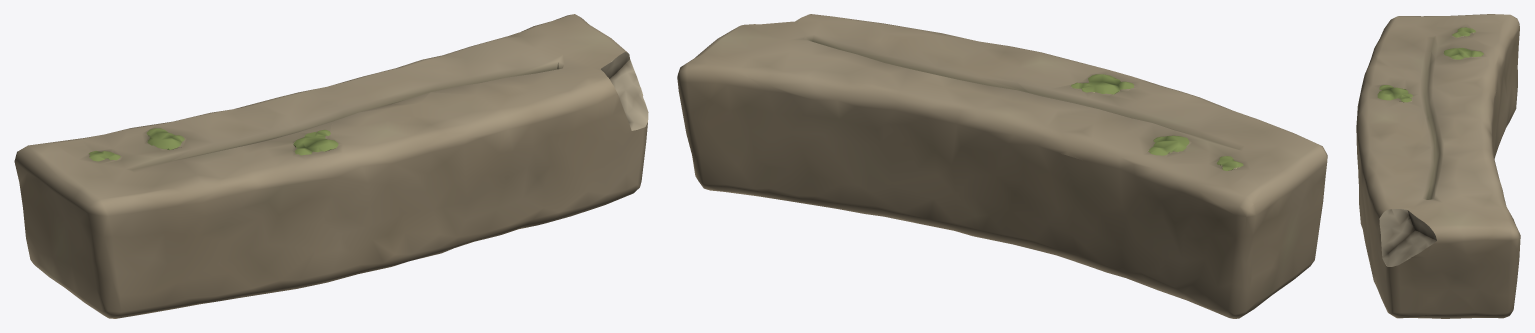
File: lm_lintel.glb
3 renders of one model, left to right at view 1: azimuth 30°, elevation 25°; view 2: azimuth 150°, elevation 25°; view 3: azimuth 270°, elevation 25°, orthographic. The views are drawn at different scales.
Parts seen in each view (by area): view 1: lm_lintel_LOD0; view 2: lm_lintel_LOD0; view 3: lm_lintel_LOD0.
Part boxes in pixels (<box>): lm_lintel_LOD0: <box>14,14,648,318</box>; lm_lintel_LOD0: <box>677,14,1327,318</box>; lm_lintel_LOD0: <box>1356,14,1520,318</box>.
Size of what is drawn, in the model's own units: 4.73 by 1.07 by 1.5.
